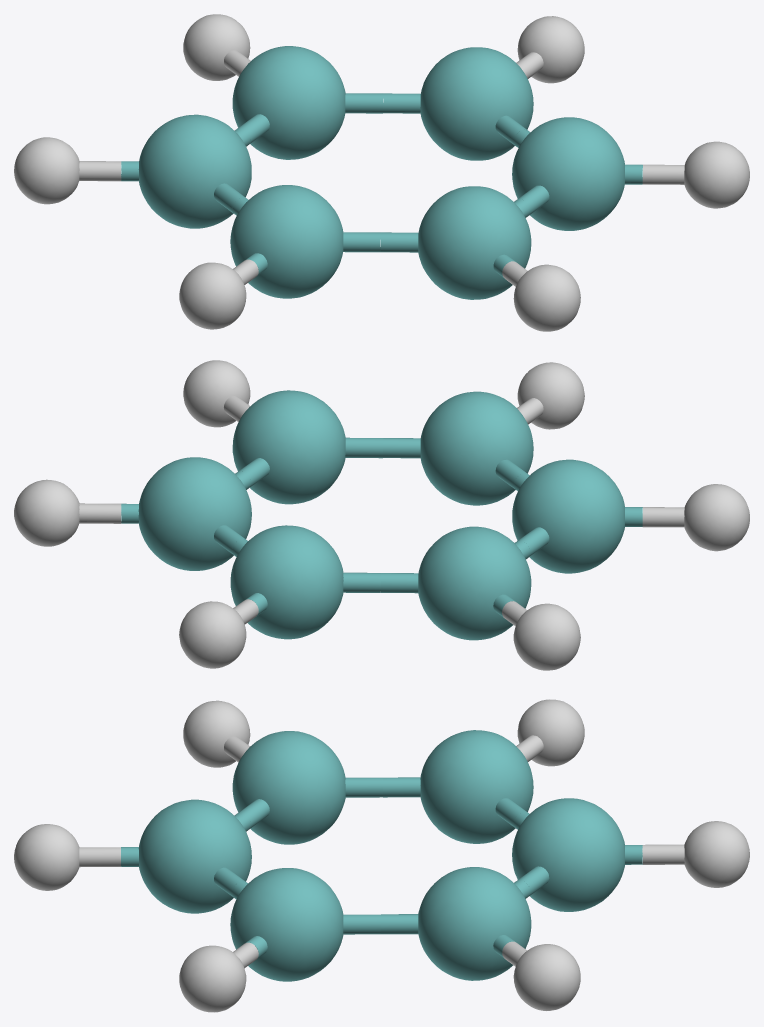
3 renders of one model, top to bottom at view 1: azimuth 30°, elevation 25°; view 2: azimuth 150°, elevation 25°; view 3: azimuth 270°, elevation 25°, orthographic.
Visible parts, largest first — view 1: C6H6; view 2: C6H6; view 3: C6H6.
Part boxes in pixels (x1,y1,x2,y2): C6H6: (14,14,749,331); C6H6: (14,360,749,670); C6H6: (14,699,749,1012).
Size of the model in its own units: 1.47 by 0.2639 by 1.66.
